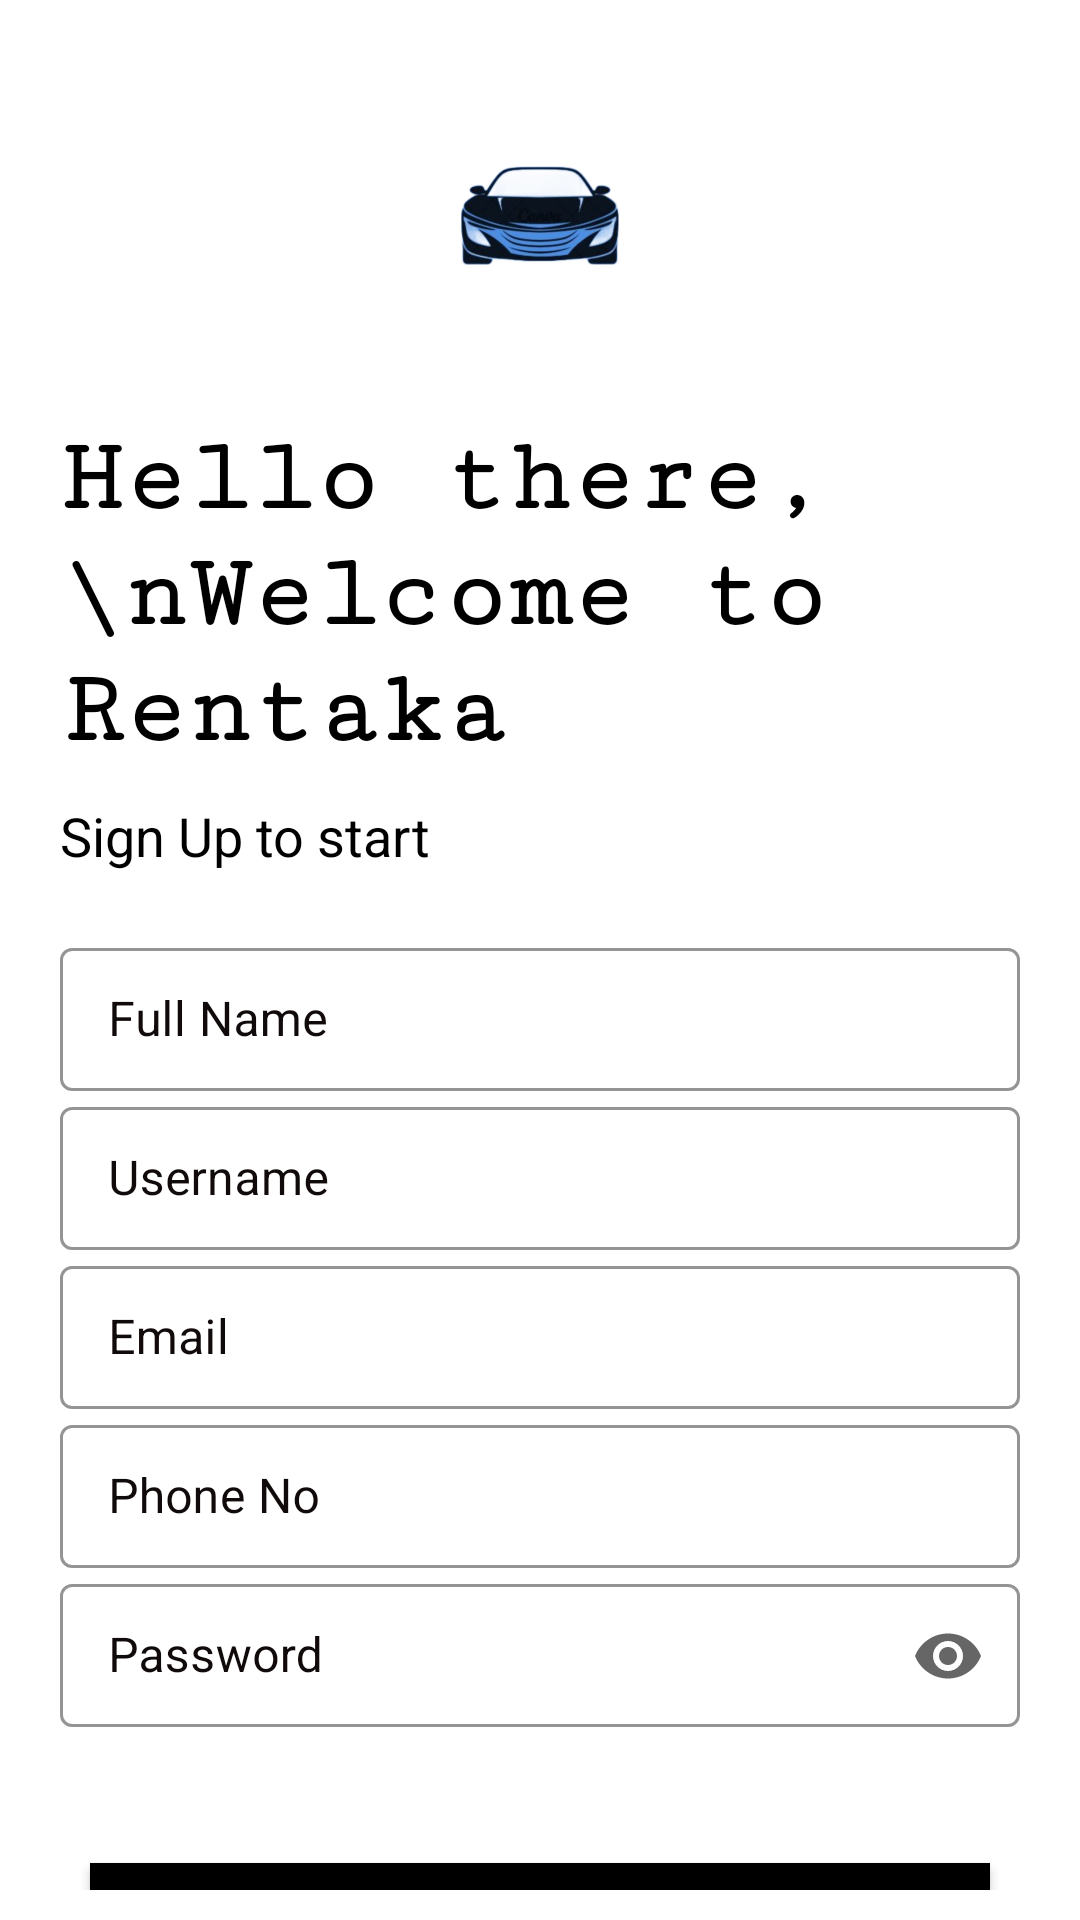

Where icons sit on this 1080w x 1920h app screen, as (x1, y1, x2, y2):
car: (461, 166, 619, 265)
